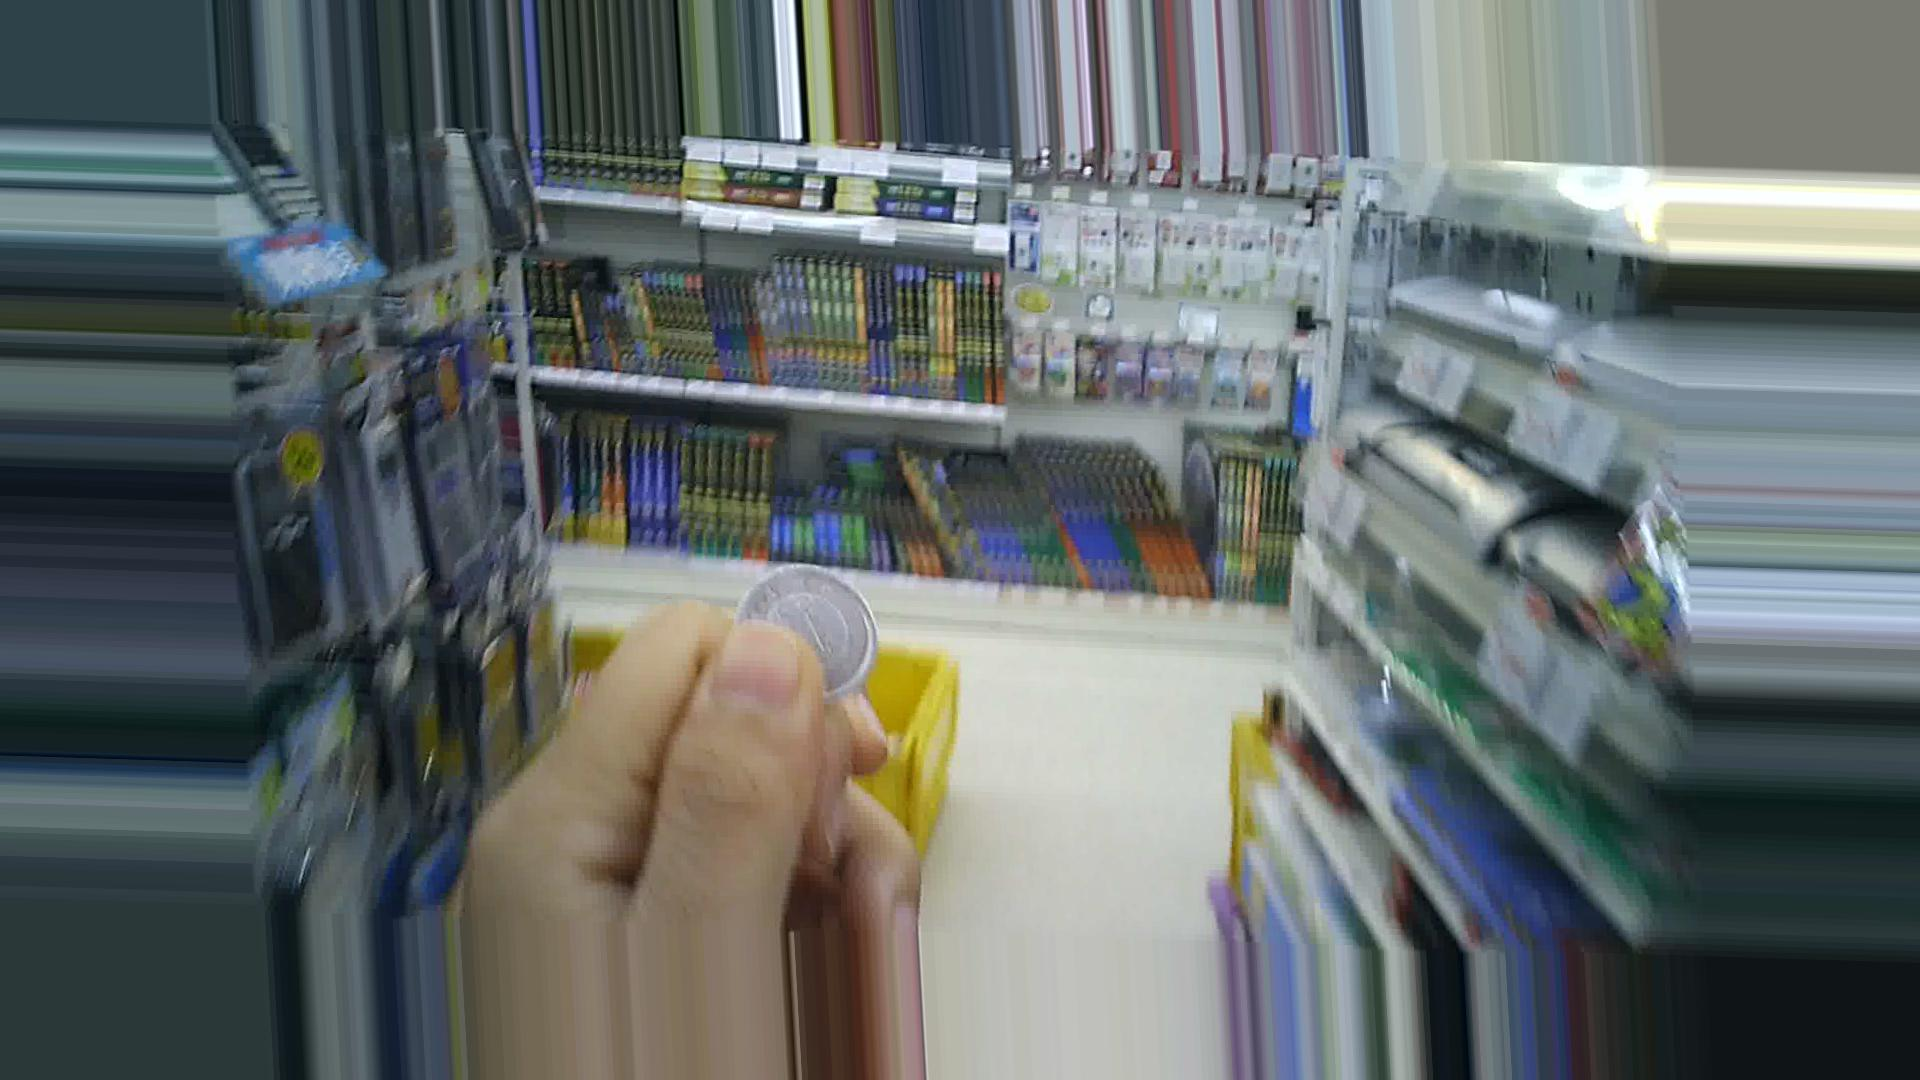1 Yen: (737, 553, 889, 703)
